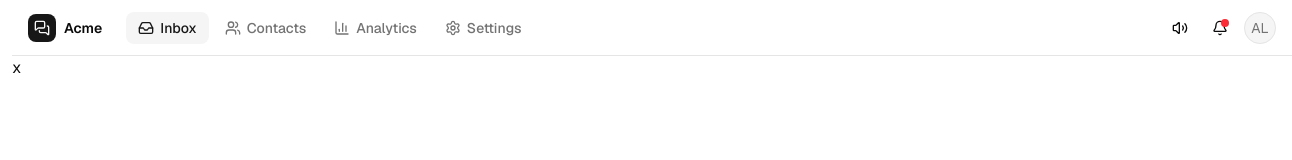
it: AppShell › notifications › shows a dot only when something is unread, and marks everything read when opened
The image size is (1292, 160).
Click the button with class "lucide-bell": (1220, 28) x1=1204 y1=12 x2=1236 y2=44
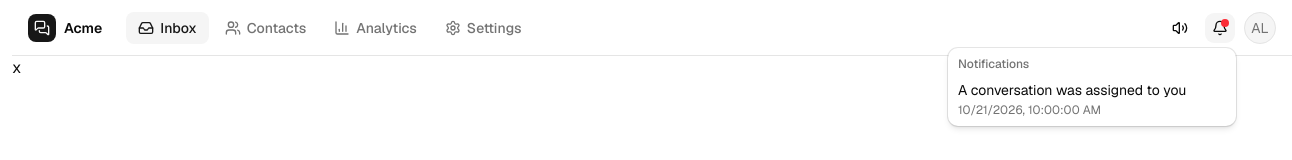
expect the text "A conversation was assigned to you" is shown: met, box x1=958 y1=80 x2=1186 y2=100
